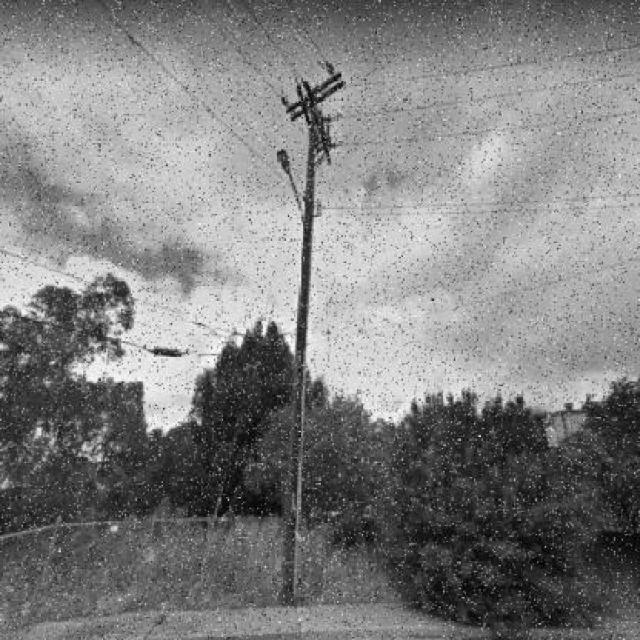pole: (254, 39, 354, 622)
